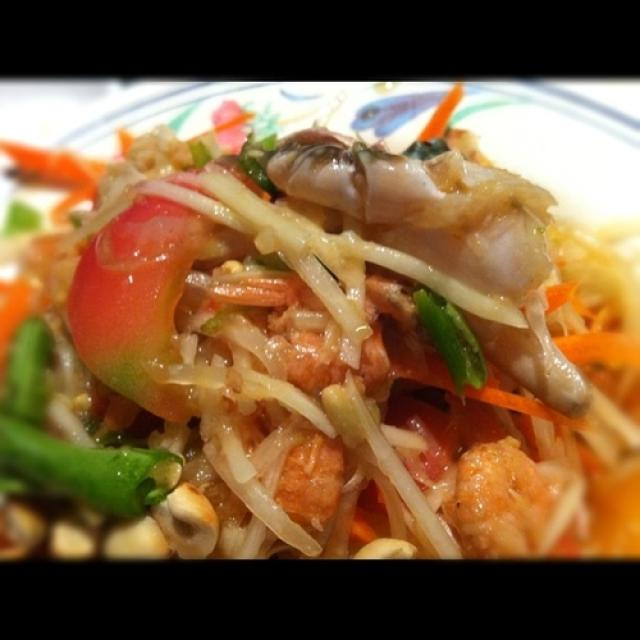蔬菜料理: (15, 89, 621, 552)
